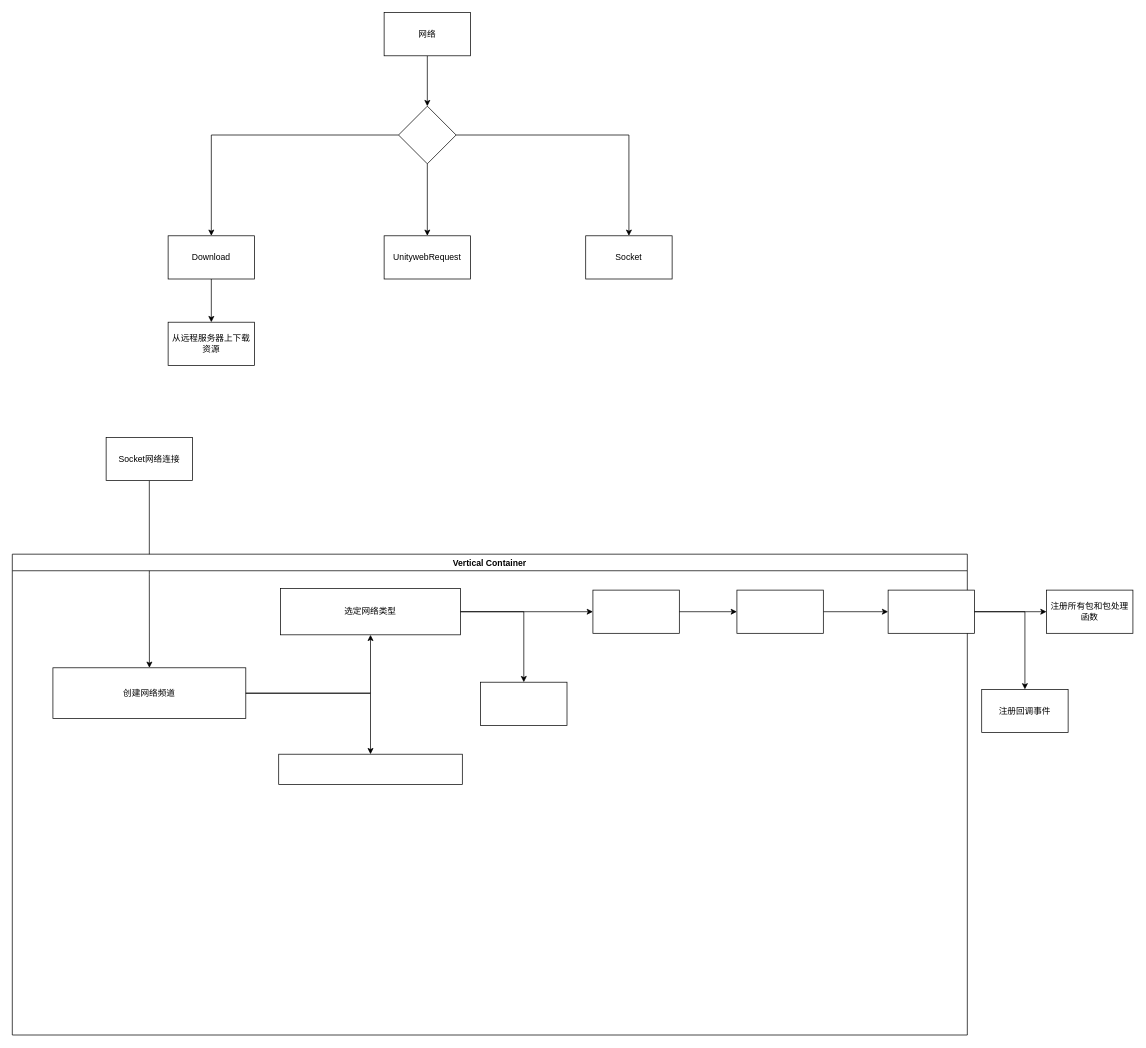
The diagram is 1146 pixels wide and 1048 high, and some of its shapes have lost their labels. The shapes that lost their labels are listed below. From the top down, each one's centre as x and y in pixels, then its label:
At [427,134]: "分类".
At [635,611]: "tcp".
At [779,611]: "实例化".
At [931,611]: "helper 初始化".
At [523,703]: "tcp同步接收".
At [370,769]: "注册回调".
